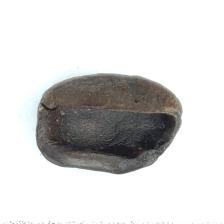NG: (36, 95, 177, 173)
